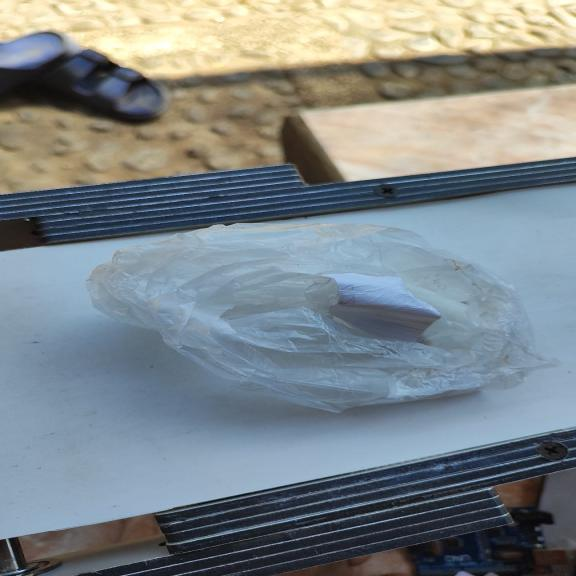Plastik: (86, 218, 568, 416)
